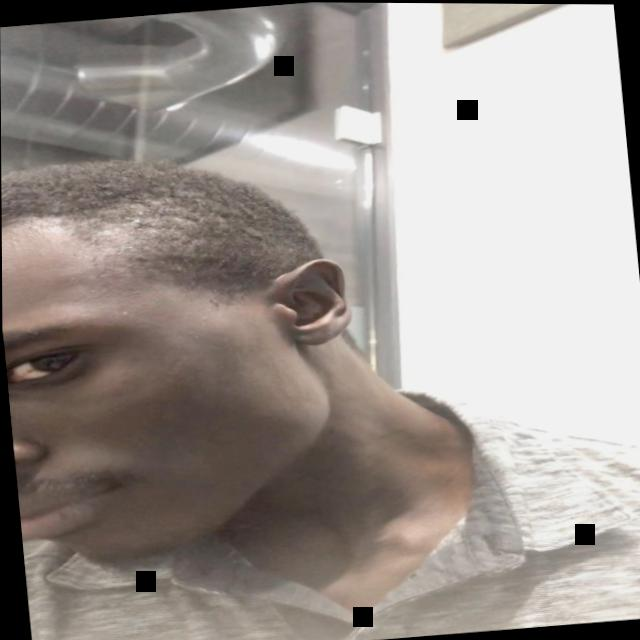NO-Mask: (1, 222, 354, 572)
